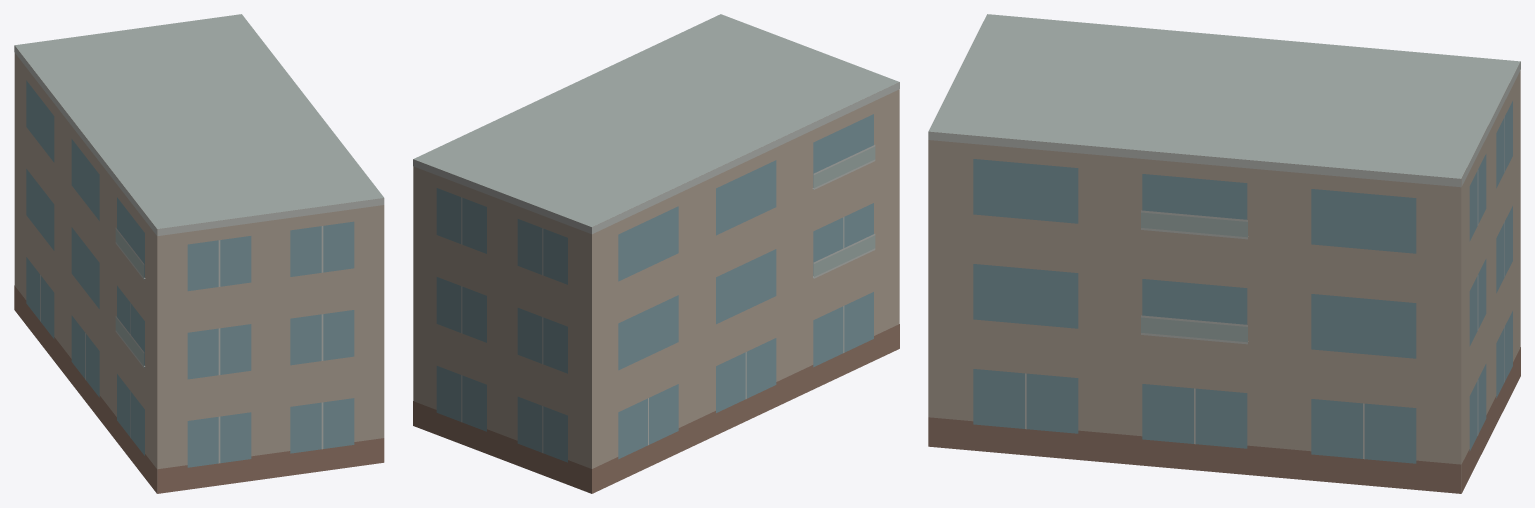
Rendered from survey-upis-32937012.glb.
3 renders of one model, left to right at view 1: azimuth 30°, elevation 25°; view 2: azimuth 150°, elevation 25°; view 3: azimuth 270°, elevation 25°, orthographic. The views are drawn at different scales.
Parts seen in each view (by area): view 1: survey-upis-32937012.tmp; view 2: survey-upis-32937012.tmp; view 3: survey-upis-32937012.tmp.
Part boxes in pixels (left/top/right/bottom): survey-upis-32937012.tmp: left=14, top=14, right=384, bottom=493; survey-upis-32937012.tmp: left=413, top=14, right=899, bottom=493; survey-upis-32937012.tmp: left=928, top=14, right=1520, bottom=493.
Bounding box in the file's own units: 10.28 × 9.15 × 15.61.
